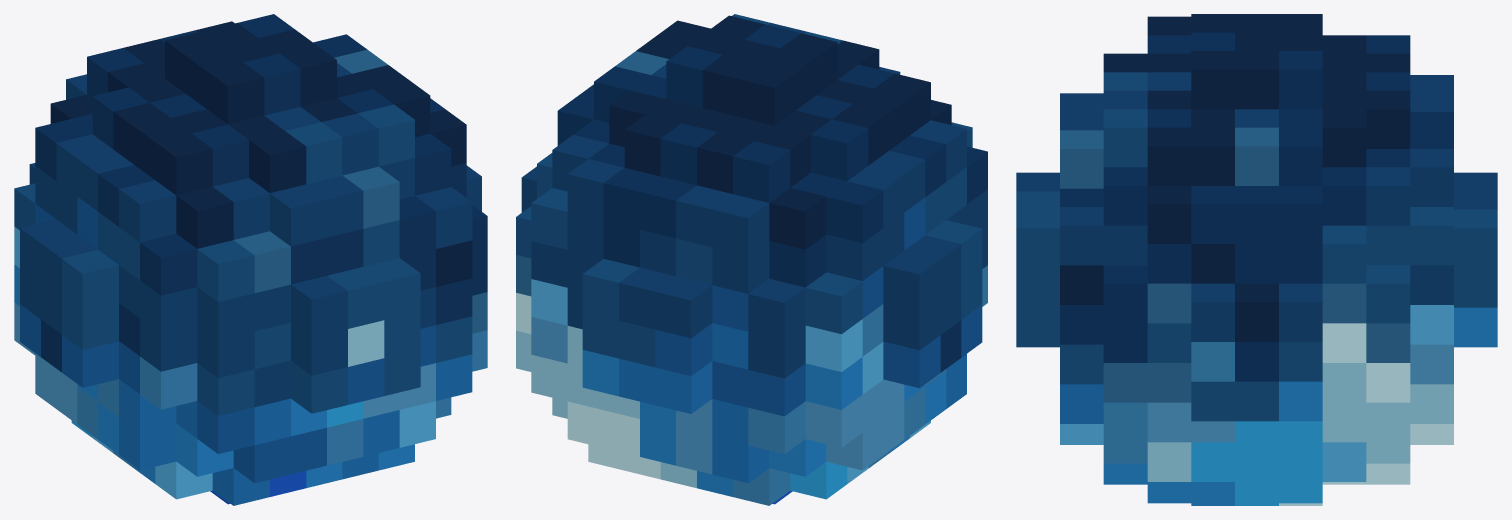
Rendered from overseer-shield-named-nodes.glb.
The picture shows the model from 3 angles, left to right: view 1: azimuth 30°, elevation 25°; view 2: azimuth 150°, elevation 25°; view 3: azimuth 270°, elevation 25°; orthographic projection. The views are drawn at different scales.
Parts seen in each view (by area): view 1: geometry_0; view 2: geometry_0; view 3: geometry_0.
Part boxes in pixels (x1=…): geometry_0: x1=14, y1=14, x2=487, y2=505; geometry_0: x1=516, y1=14, x2=987, y2=505; geometry_0: x1=1016, y1=14, x2=1497, y2=505.
Size of the model in its own units: 1.18 by 1.18 by 1.18.
Materials: 1 (1 with a texture image).
